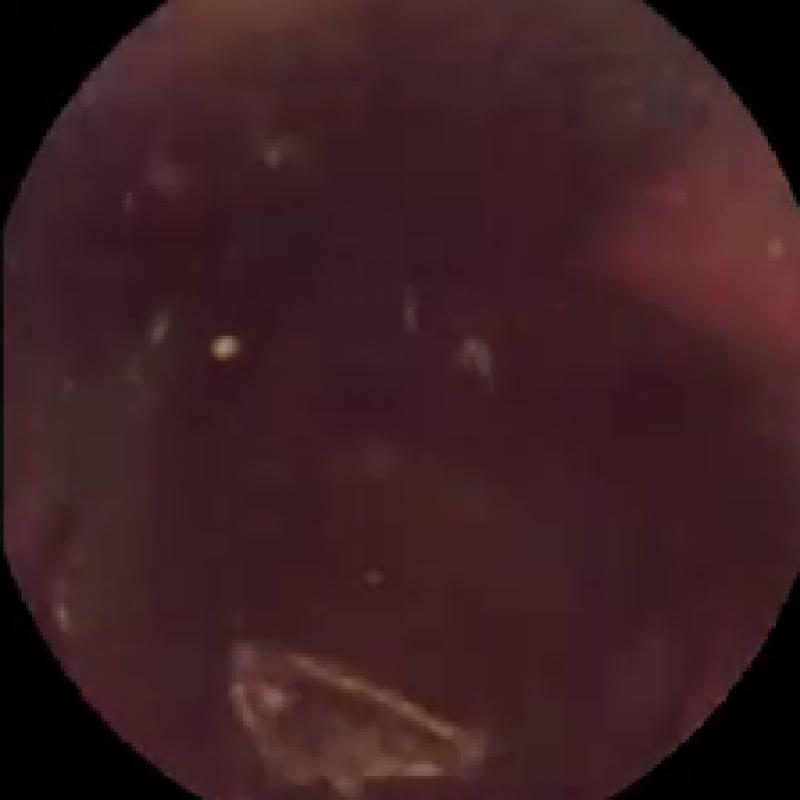bleeding: (600, 96, 800, 343)
